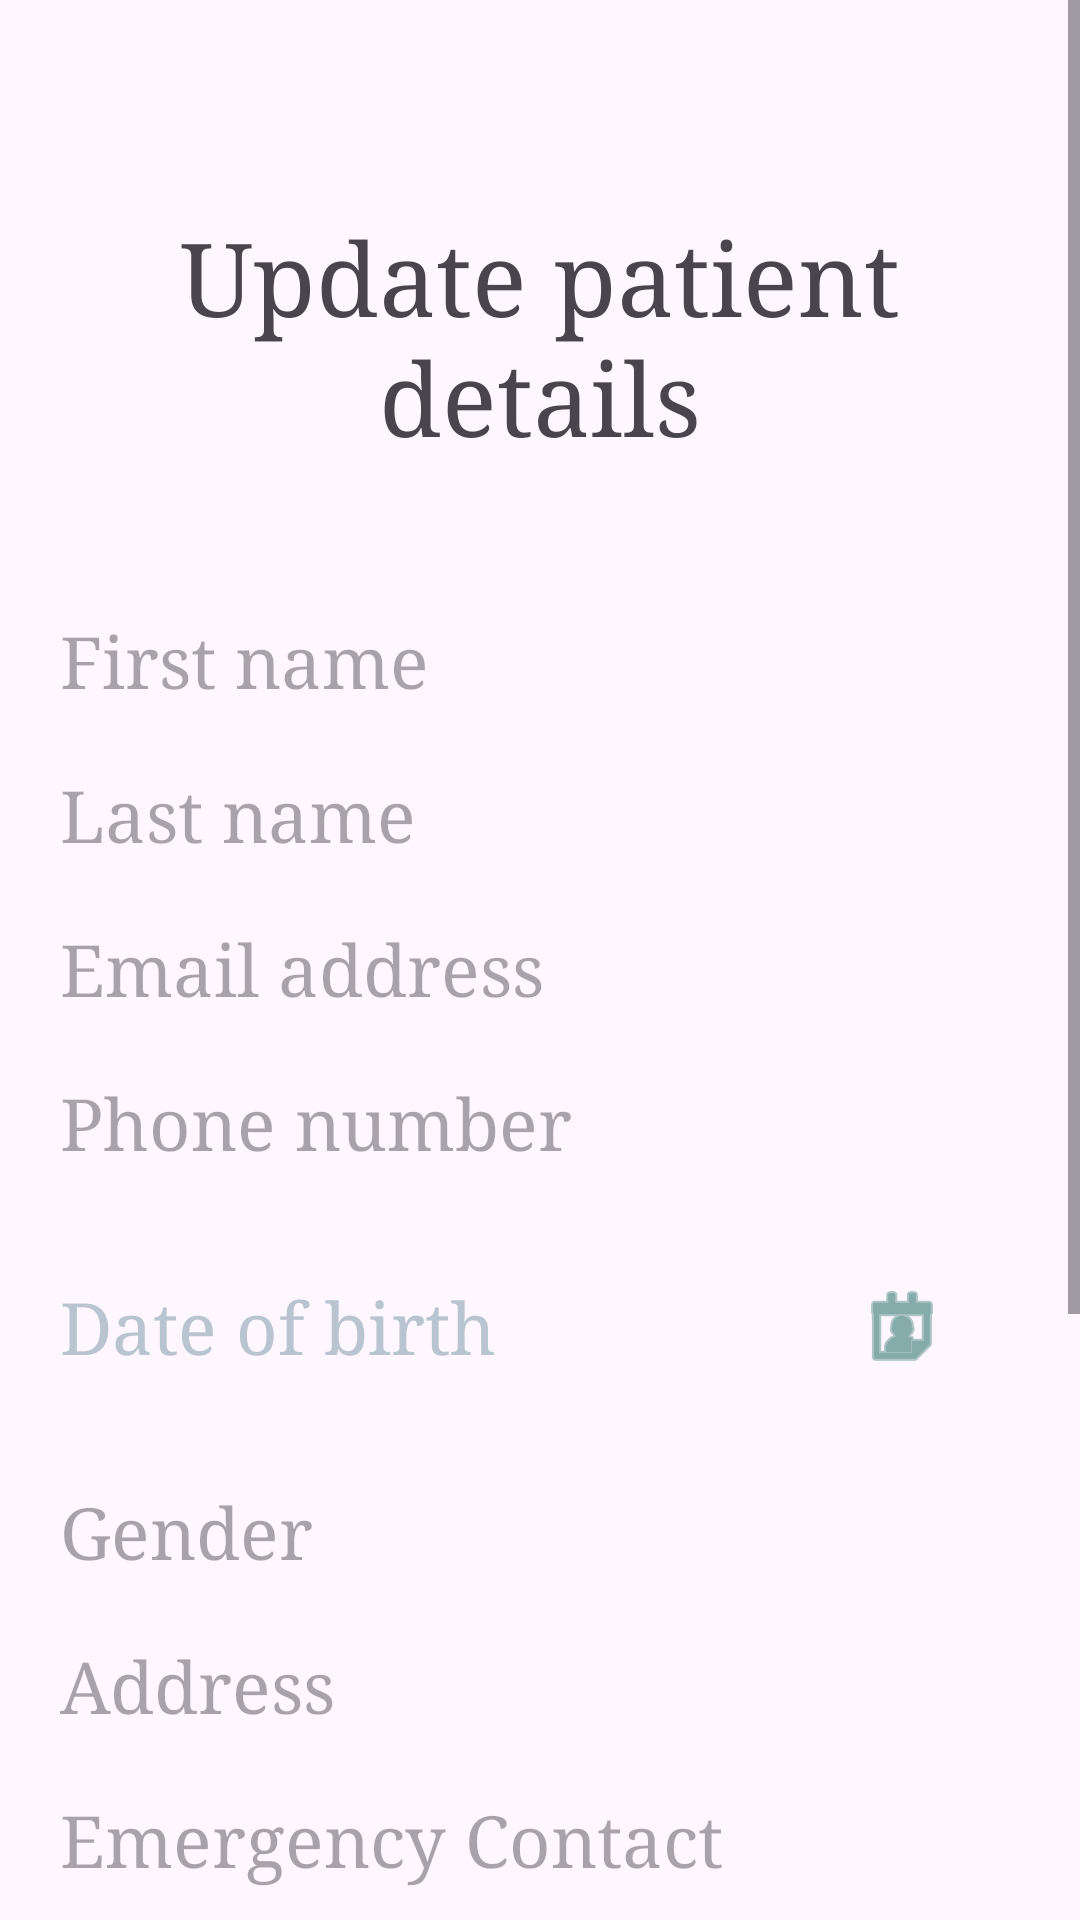

Icons on this 1080x1920 Android screen, each with its box as region(x1, y1, x2, y2):
Pick a date: region(871, 1291, 933, 1361)
